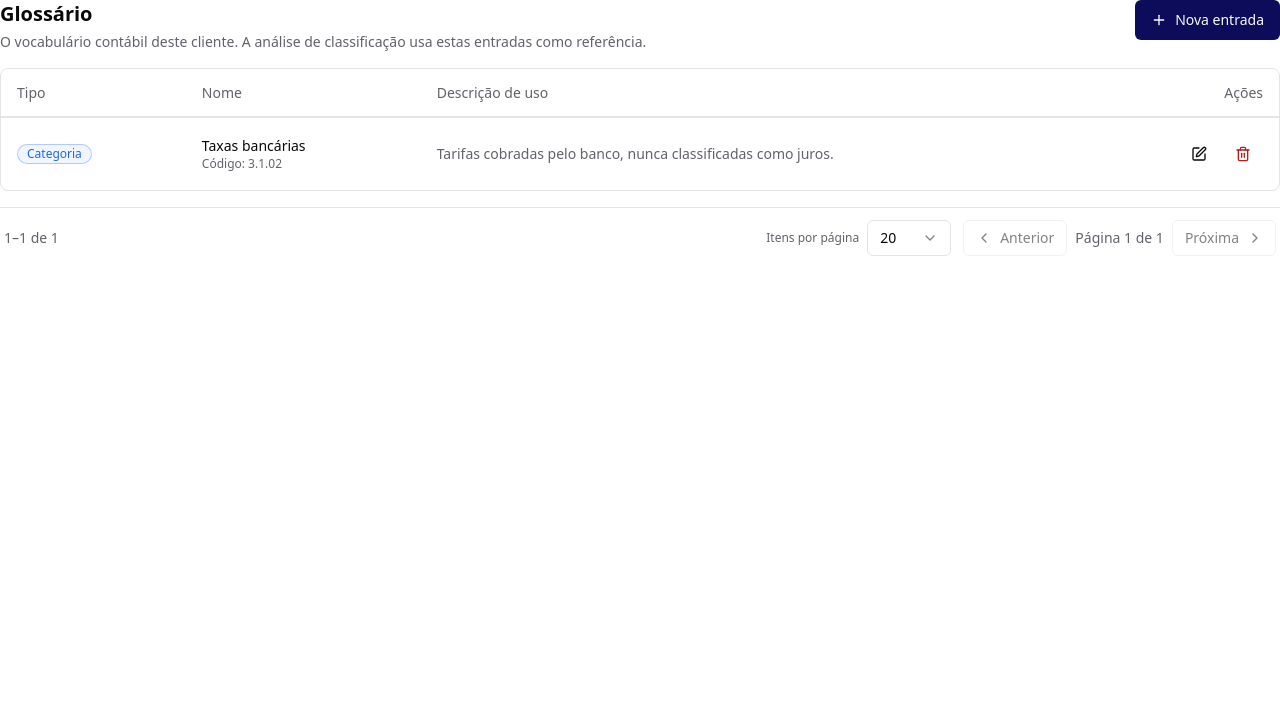
Test case: GlossaryScreen — gaveta de criação/edição › oferece exatamente os três tipos do contrato
Click the button "Nova entrada". click: (1208, 20)
box: [1135,0,1279,40]
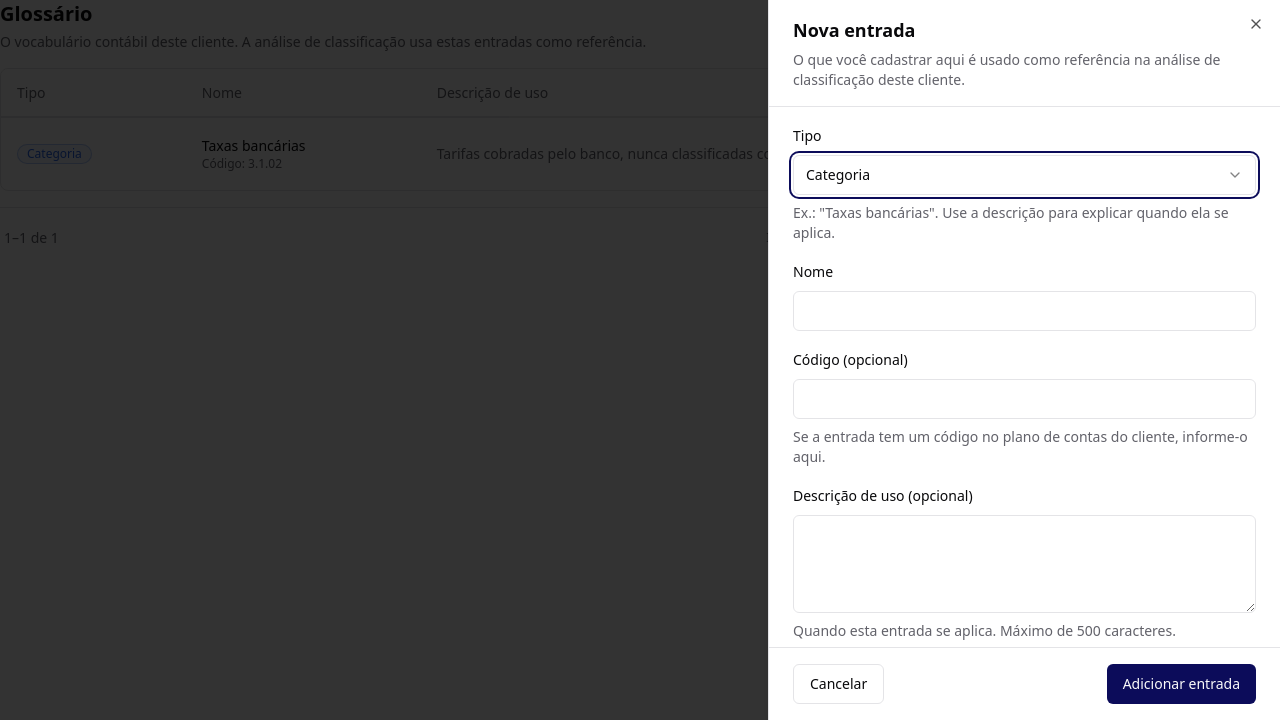
Expected: the dialog is shown, [768,0,1279,719]
Click the dropdown named "Tipo". click: (838, 174)
box: [793,155,1256,195]
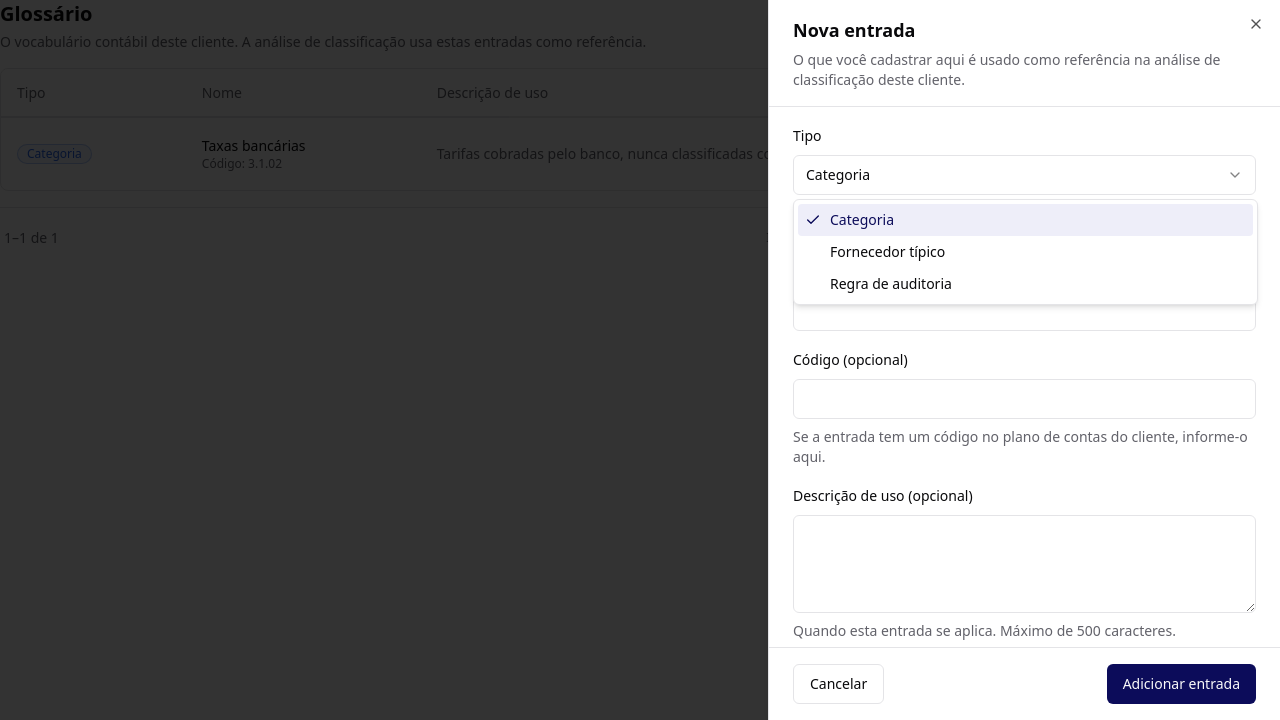
Expected: the options read "Categoria", "Fornecedor típico", "Regra de auditoria", in this order, [798,204,1253,236]; [830,242,945,261]; [830,274,952,293]
